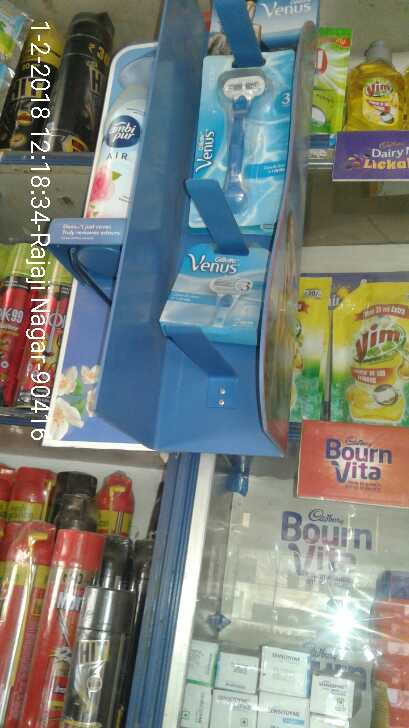beauty: (189, 45, 282, 229), (158, 239, 269, 337)
home: (81, 32, 157, 230)
